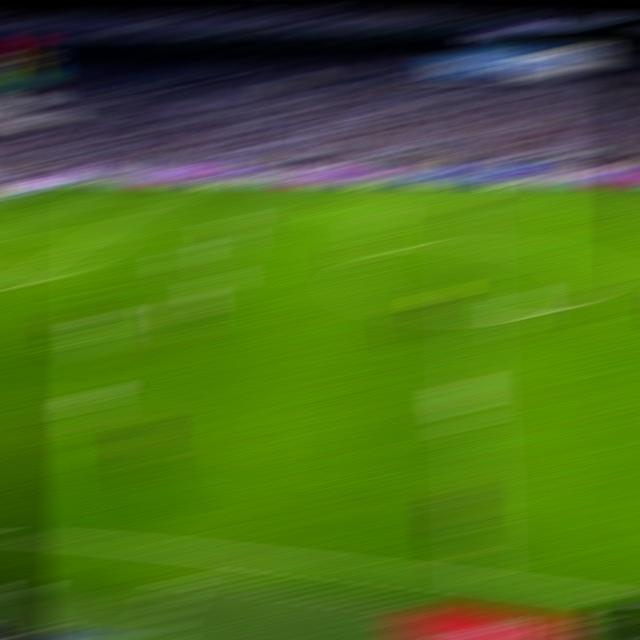corner: (51, 183, 82, 189)
halfcircle_bottom: (454, 309, 488, 325)
halfcircle_top: (451, 236, 485, 250)
midline_top_intersection: (450, 184, 482, 192)
top_arc_area_intersection: (72, 234, 104, 243)
